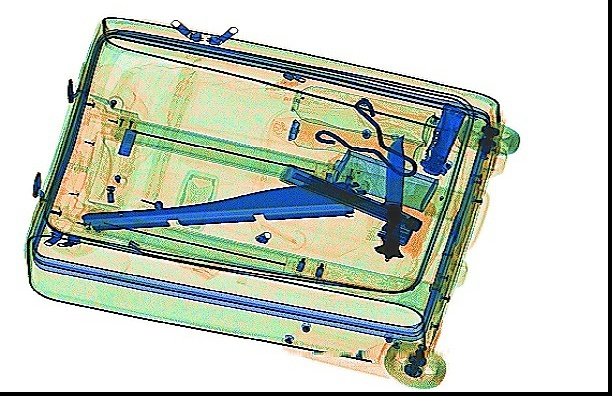knife: (370, 129, 405, 260), (416, 99, 467, 174)
pressure: (280, 83, 436, 147), (266, 113, 424, 169)
slingshot: (312, 96, 418, 176)
zippooil: (328, 147, 437, 211)
